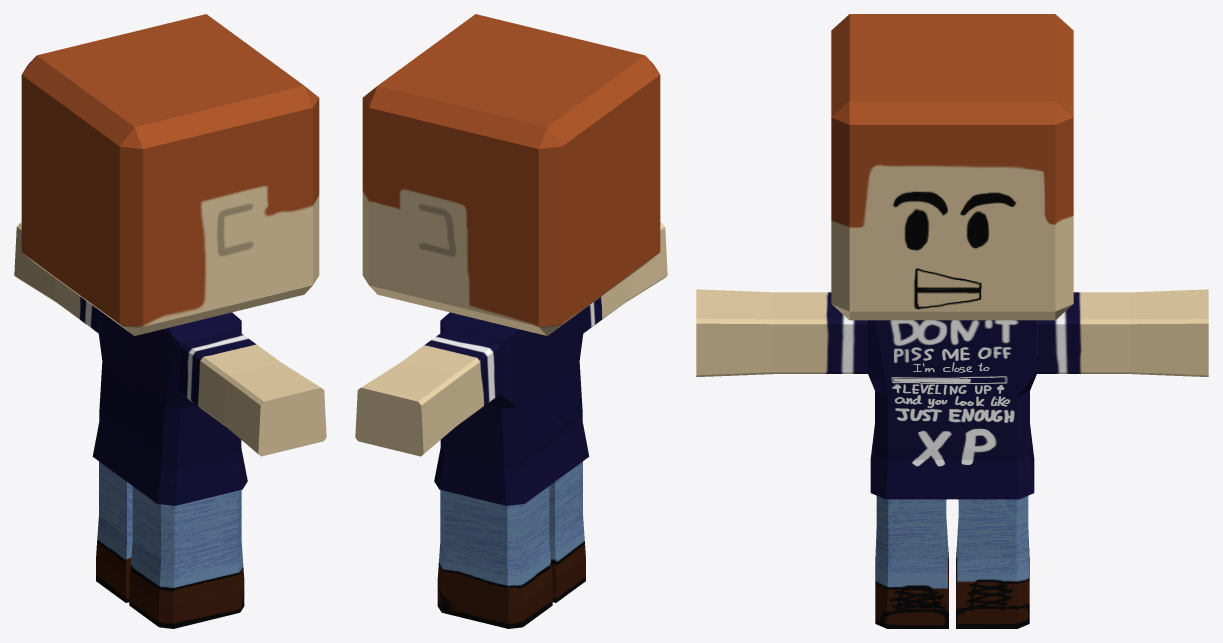
Rendered from CharacterMain.fbx.
The picture shows the model from 3 angles, left to right: view 1: azimuth 30°, elevation 25°; view 2: azimuth 150°, elevation 25°; view 3: azimuth 270°, elevation 25°; orthographic projection. The views are drawn at different scales.
Parts seen in each view (by area): view 1: Cube; view 2: Cube; view 3: Cube.
Boxes of the visible parts, x1=… form: Cube: x1=14, y1=14, x2=326, y2=628; Cube: x1=355, y1=14, x2=667, y2=628; Cube: x1=696, y1=14, x2=1208, y2=628.
Size of the model in its own units: 200 by 501 by 423.
